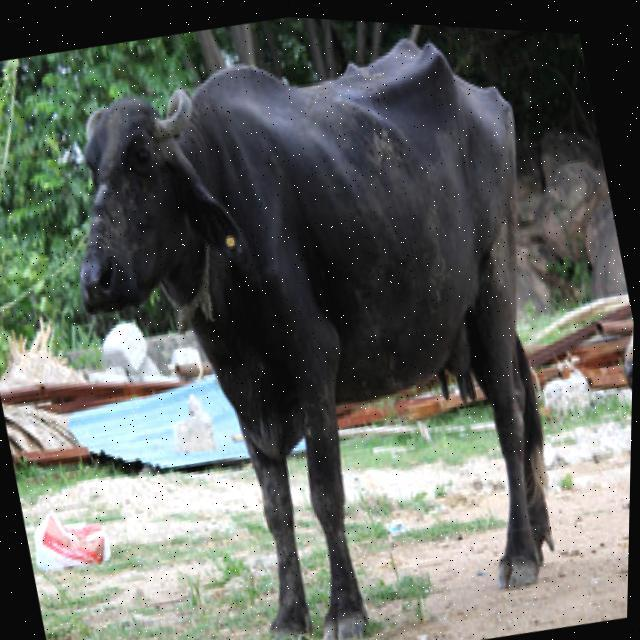Buffalo: (25, 2, 621, 640)
